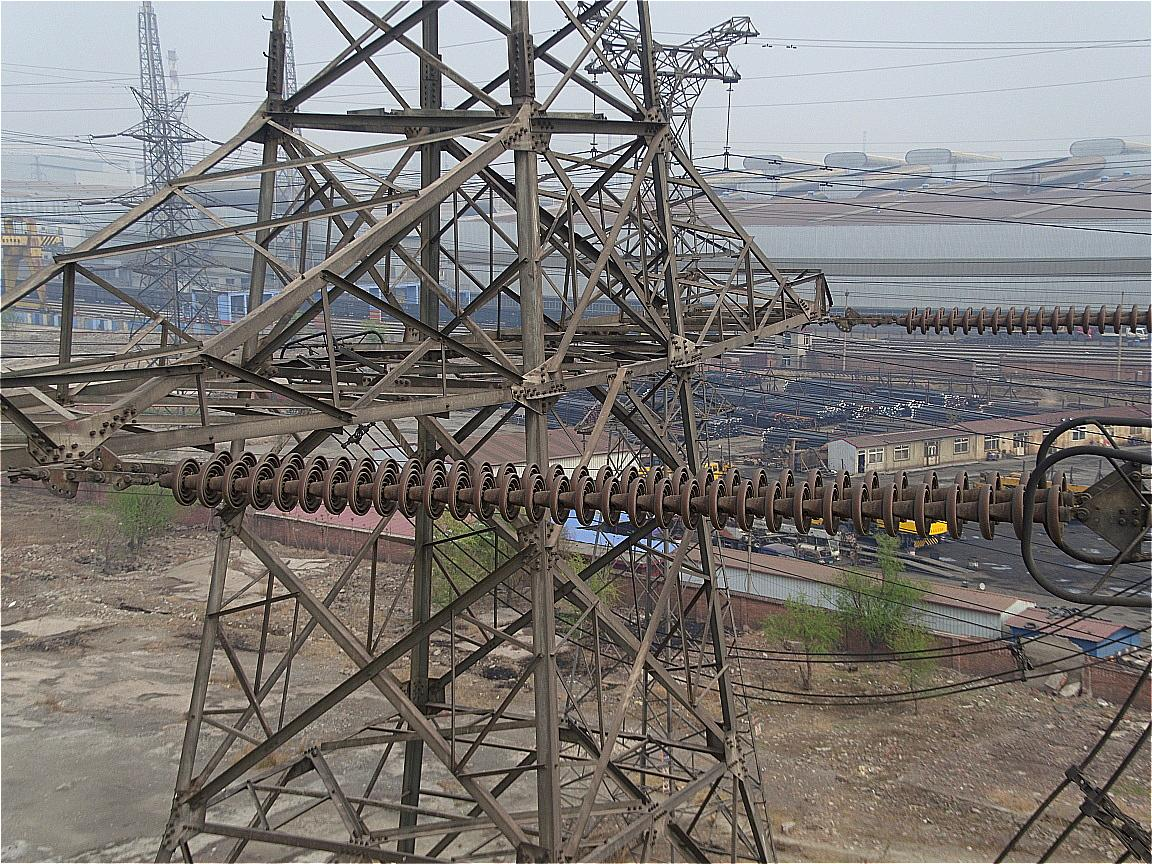insultor1: (160, 424, 1053, 564), (892, 291, 1152, 356)
